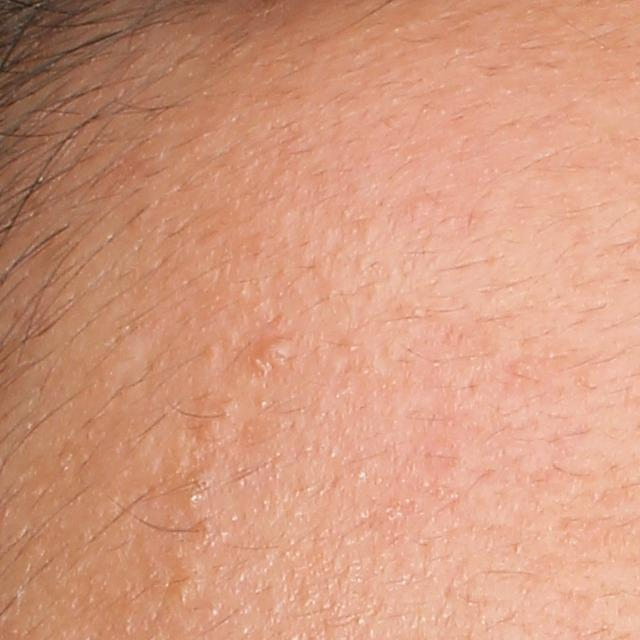comedo: (248, 335, 297, 373)
